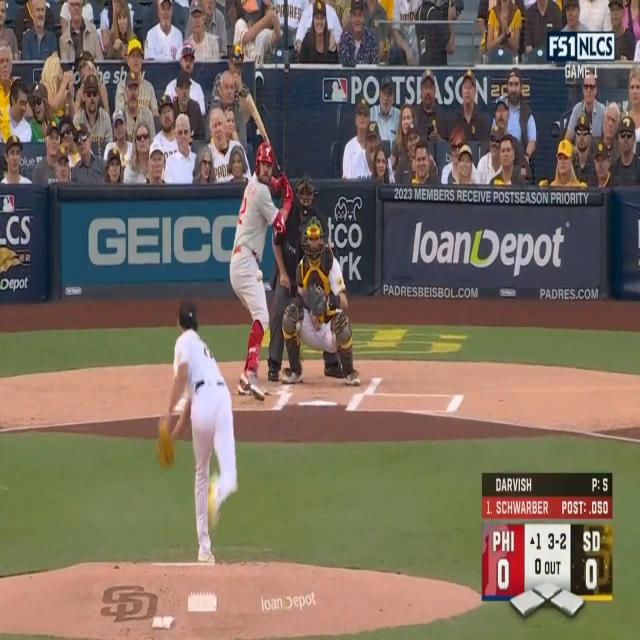baseball: (255, 269, 262, 283)
